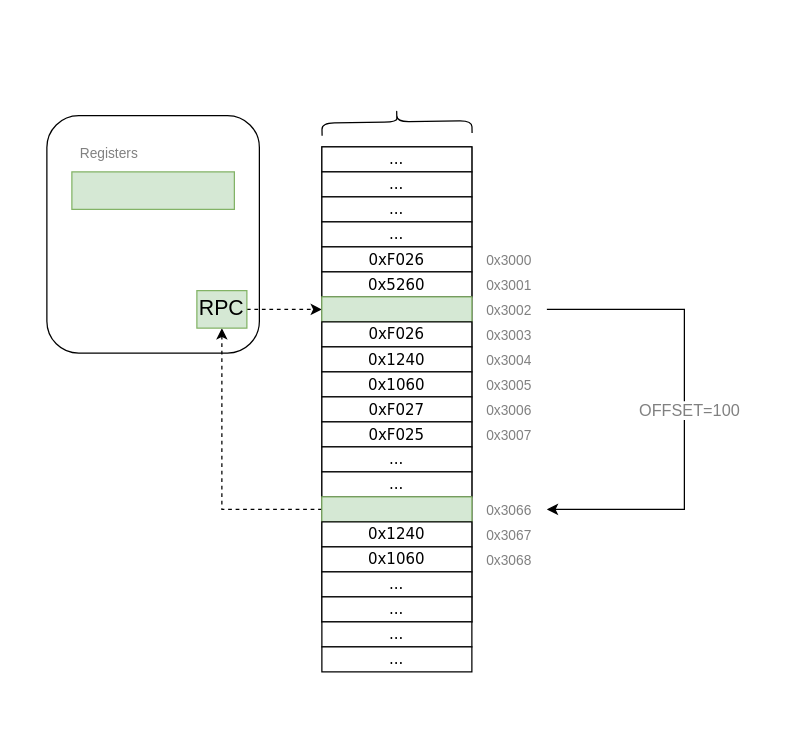
Some shapes in this 793 by 743 pixel diagram are drawn without their labels. The box of each missing label's shape, as (x1, y1, x2, y2) in pixels:
0x3204: (321, 496, 472, 522)
jsr 100: (321, 296, 472, 322)
Main Memory: (320, 107, 472, 136)
R7=0x3002: (71, 171, 234, 209)
